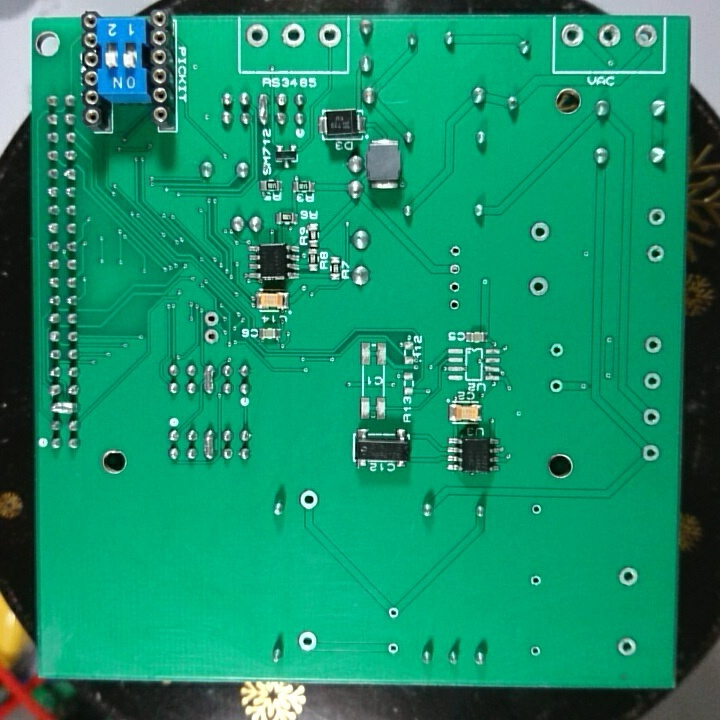F: (316, 20, 344, 53), (596, 19, 623, 52), (243, 21, 270, 52), (560, 20, 585, 51), (280, 22, 306, 50), (528, 219, 553, 245), (527, 274, 550, 302), (297, 488, 321, 514), (634, 23, 656, 51), (640, 441, 662, 469), (615, 634, 639, 659), (638, 405, 662, 429), (296, 629, 320, 653), (642, 370, 665, 395), (617, 566, 641, 589), (647, 206, 669, 230), (643, 332, 663, 358), (647, 243, 667, 266), (547, 377, 567, 400), (201, 309, 223, 329), (201, 326, 223, 346), (547, 341, 567, 361), (527, 572, 546, 592), (528, 500, 544, 520), (448, 278, 464, 297), (447, 243, 464, 260), (447, 297, 464, 314), (527, 643, 544, 660), (447, 261, 463, 278), (385, 640, 401, 657), (385, 604, 401, 620)
P: (200, 426, 218, 467), (48, 398, 81, 420), (255, 90, 274, 128), (201, 360, 215, 401)
